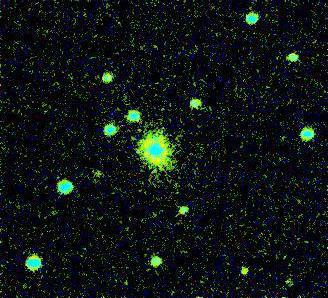star: (229, 255, 259, 285)
